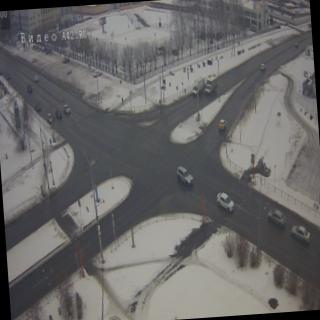large-vehicle: (204, 76, 218, 96), (192, 75, 204, 96)
small-vehicle: (290, 224, 310, 246), (176, 165, 193, 187), (217, 191, 234, 213), (268, 208, 286, 228), (217, 118, 227, 131), (61, 103, 70, 115), (92, 68, 101, 78), (46, 113, 54, 124), (26, 84, 34, 95), (54, 109, 62, 119), (34, 102, 42, 112), (292, 40, 300, 49), (62, 56, 71, 64), (32, 74, 40, 82), (44, 47, 51, 56), (260, 63, 266, 72), (36, 46, 43, 53), (6, 72, 12, 80), (32, 44, 38, 50)
